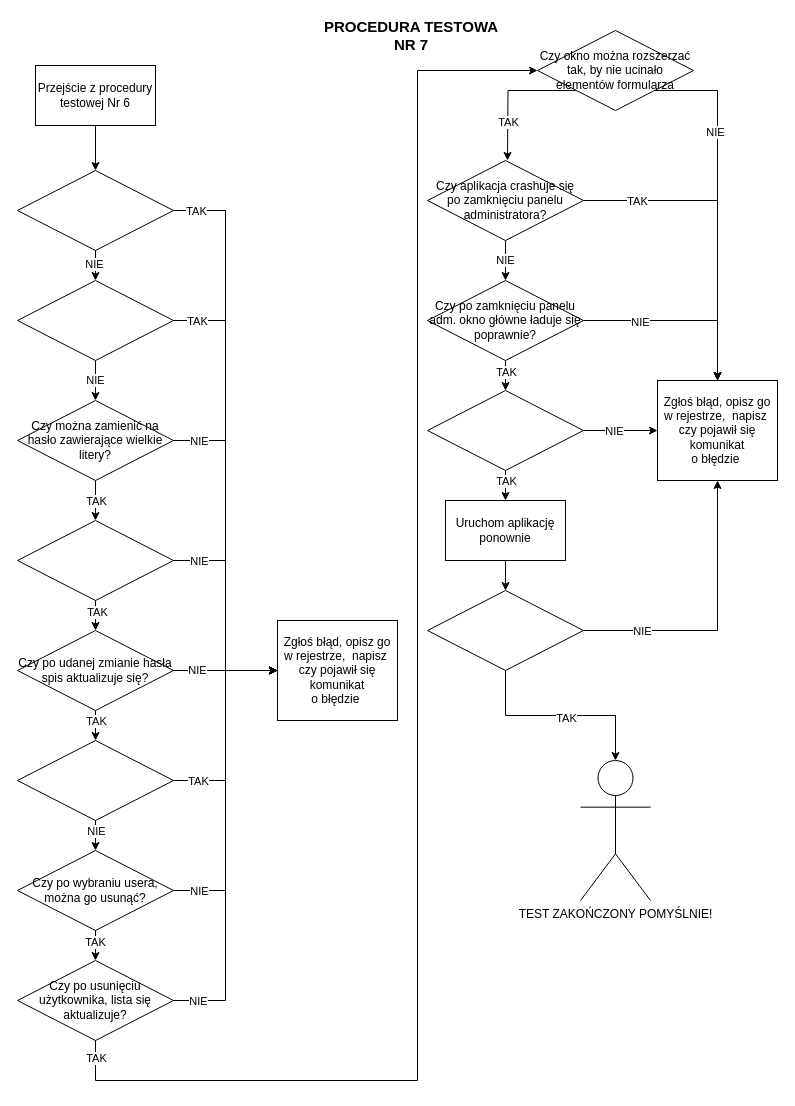
Some shapes in this 795 by 1106 pixel diagram are drawn without their labels. Here are the shapes that lost their labels. From the top down, the box of each, then its label:
(16, 170, 174, 250): Czy bez wybrania użytkownika można zmienić hasło?
(16, 280, 174, 360): Czy po wybraniu usera można zmienić hasło na puste?
(426, 390, 584, 470): Czy przycisk zamykania okna głównego działa poprawnie?
(16, 520, 174, 600): Czy można zamienić na hasło zawierające znaki specjalne?
(426, 590, 584, 670): Czy przycisk zamykania okna logowania działa poprawnie?
(16, 740, 174, 820): Czy można usunąć użytkownika nie wybierając go z listy?
